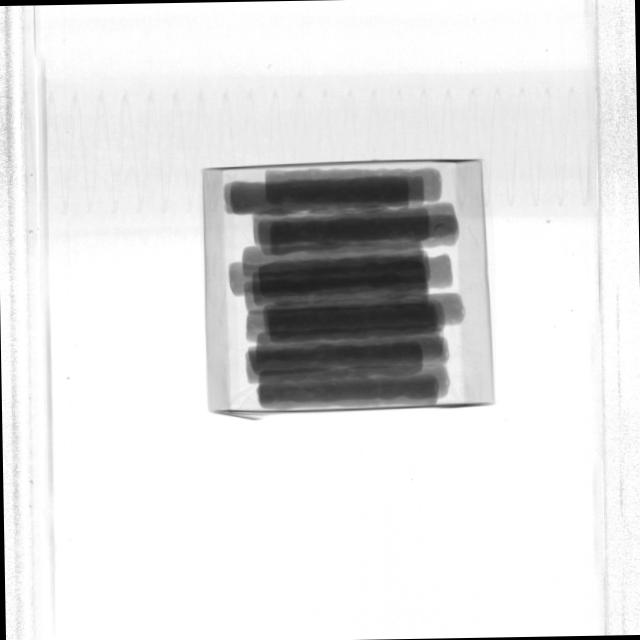ym: (433, 222, 444, 234)
